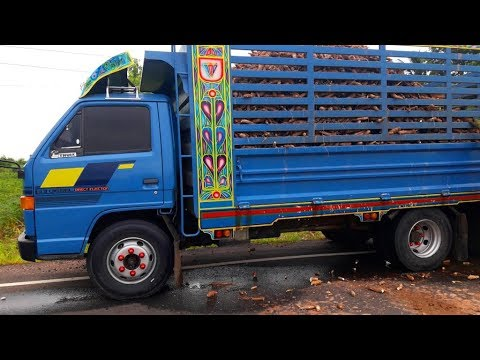truck: (19, 49, 297, 299)
